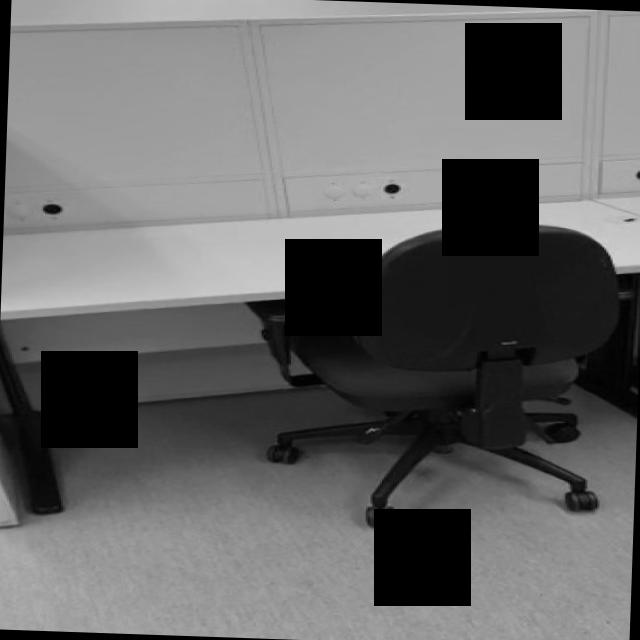cadeira-azul: (238, 214, 620, 534)
